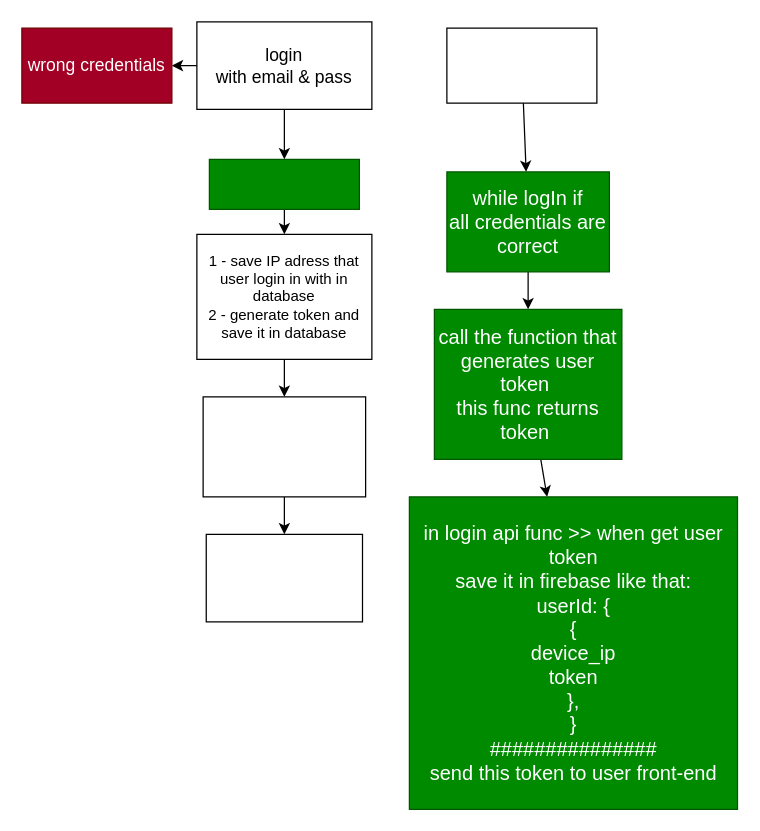
Some shapes in this 760 by 831 pixel diagram are drawn without their labels. The shapes that lost their labels are listed below. From the top down, each one's centre as x and y in pixels, then its label:
(521,65): any api from app with token
(283,183): login successfully
(283,577): any other API authentecation will require token and IP adress
